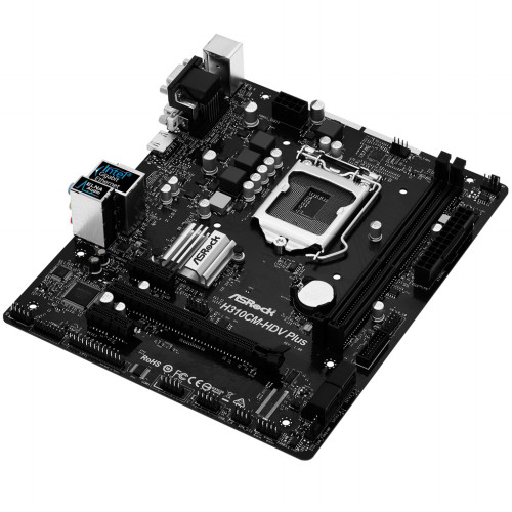CPU: (250, 144, 382, 262)
GPU: (102, 279, 286, 385)
MOTHERBOARD: (2, 33, 512, 461)
RAM: (314, 153, 466, 360)
